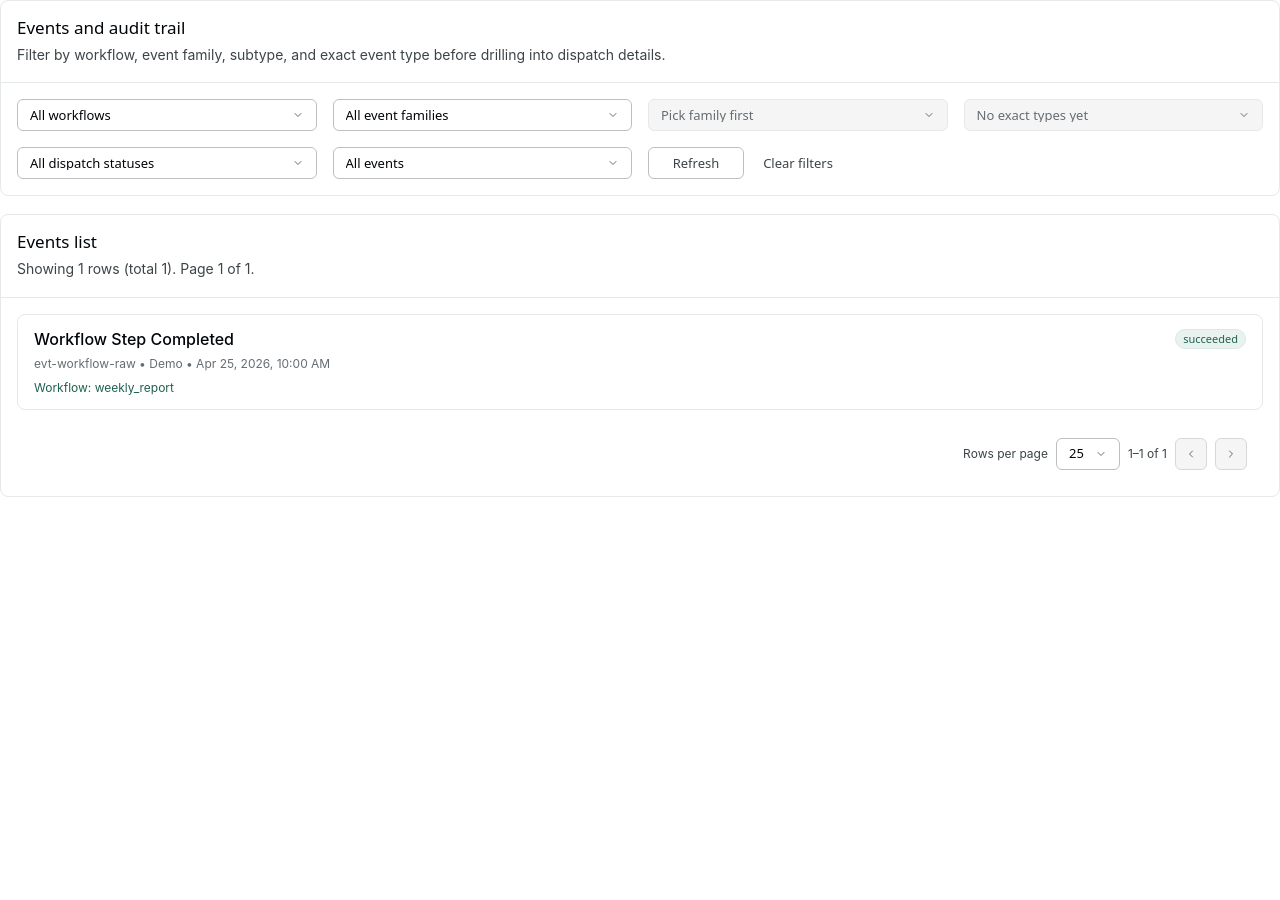
Test: EventsAuditTrail › shows raw workflow ids when backend workflow labels are missing
The width and height of the screenshot is (1280, 900).
Check: the link "Workflow: weekly_report" is shown, box [34,379,174,397]
Step 1. Click the dropdown named "workflow filter" → (70, 115), box [17,99,316,131]
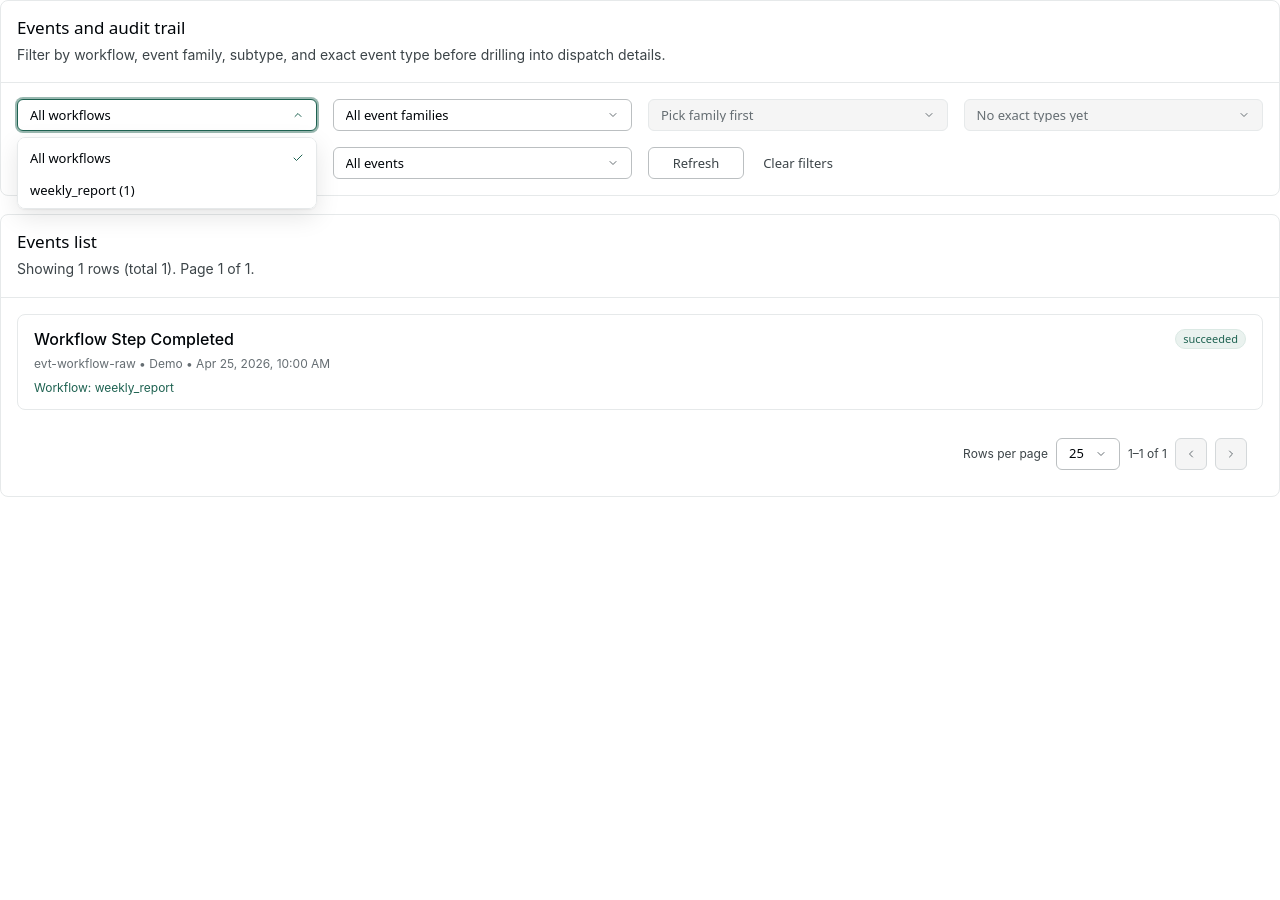
Step 2. Click the option "weekly_report (1)" → (82, 190), box [22,174,312,206]
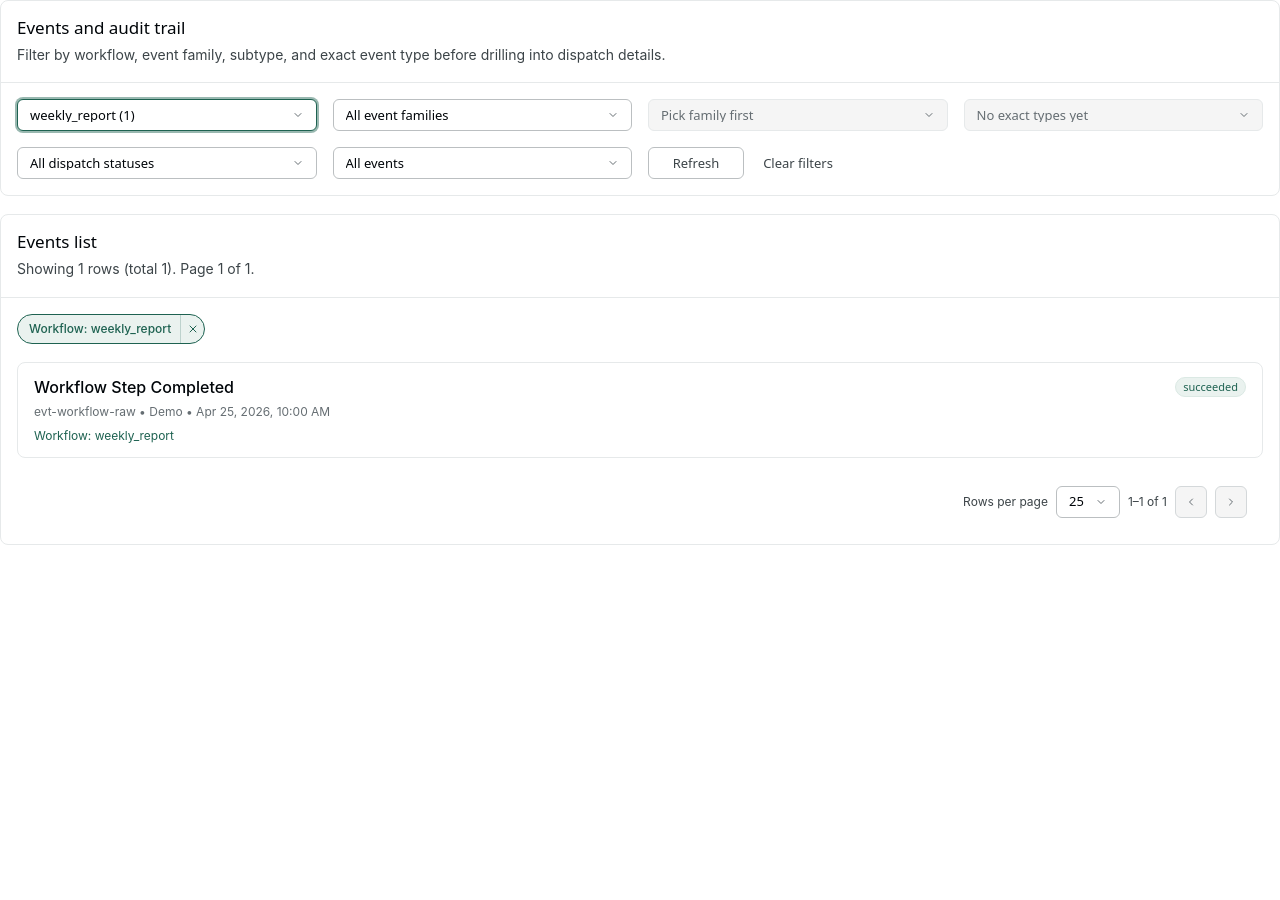
Check: the element with test id "events-active-filters" reads "Workflow: weekly_report", box [18,320,180,338]
Step 3. Click the button "Workflow Step Completed" → (134, 387), box [34,375,1246,421]
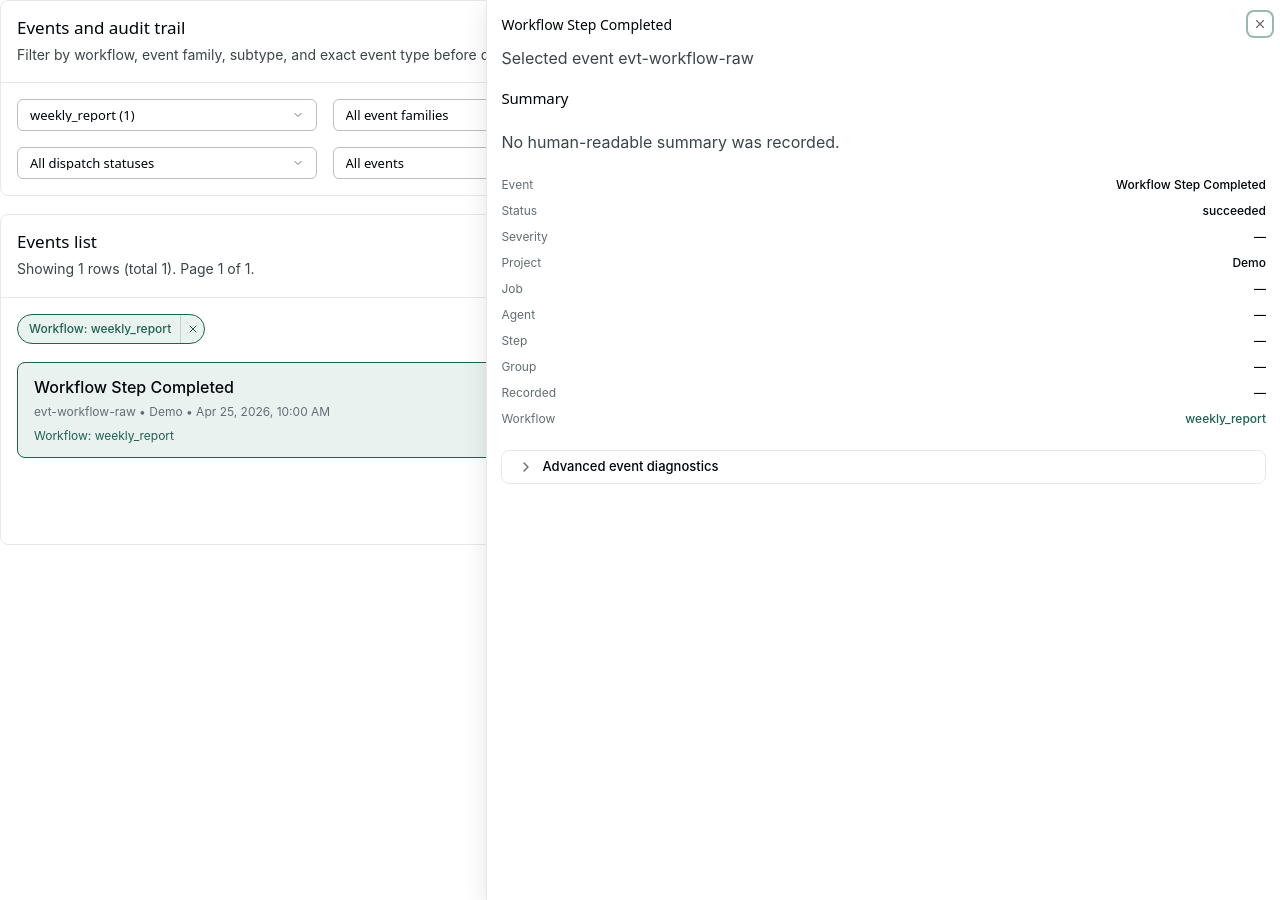
Check: the number of links with test id "event-workflow-link" is 2, box [34,427,174,445]; [1185,411,1266,426]
Check: the link with test id "event-workflow-link" reads "weekly_report", box [1185,411,1266,426]
